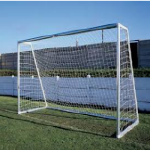goals: (17, 22, 141, 139)
